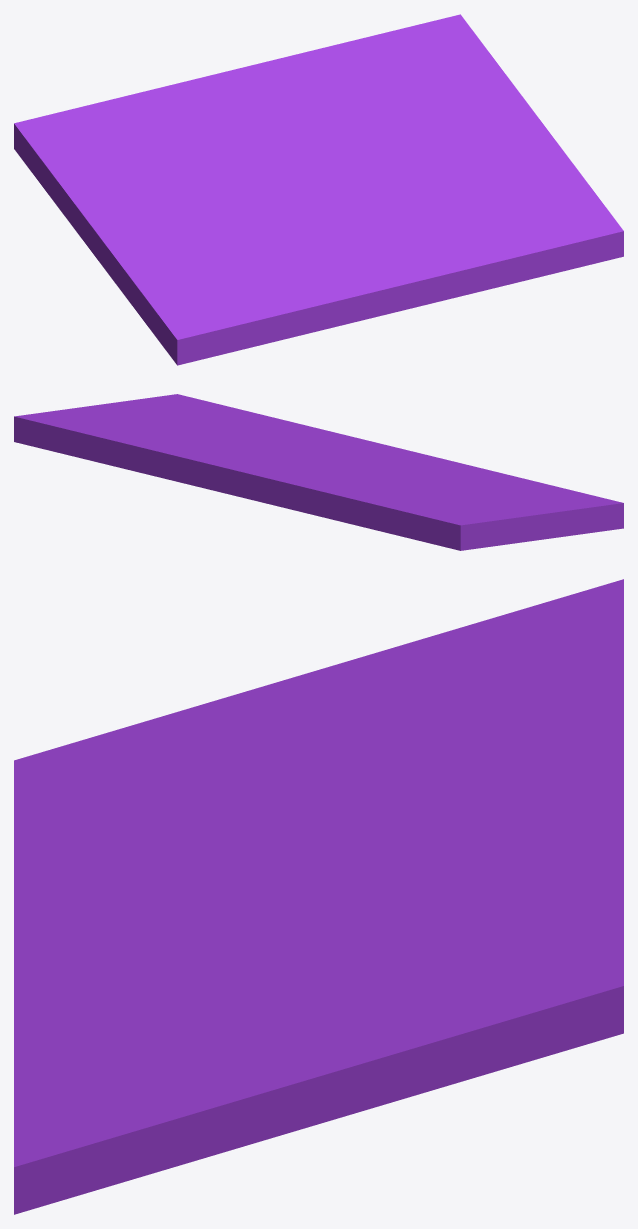
Rendered from Window_167_chunks.fbx.
The picture shows the model from 3 angles, top to bottom: view 1: azimuth 30°, elevation 25°; view 2: azimuth 150°, elevation 25°; view 3: azimuth 270°, elevation 25°; orthographic projection. The views are drawn at different scales.
Visible parts, largest first — view 1: Window_167_3, Window_167_0, Window_167_1, Window_167_2; view 2: Window_167_2, Window_167_0, Window_167_3, Window_167_1; view 3: Window_167_0, Window_167_3, Window_167_1, Window_167_2.
Part boxes in pixels (bbox=[...]): Window_167_3: bbox=[56, 172, 382, 365]; Window_167_0: bbox=[271, 14, 574, 188]; Window_167_1: bbox=[337, 166, 623, 320]; Window_167_2: bbox=[14, 60, 304, 214]; Window_167_2: bbox=[180, 462, 509, 550]; Window_167_0: bbox=[14, 400, 322, 482]; Window_167_3: bbox=[321, 453, 623, 543]; Window_167_1: bbox=[129, 394, 417, 456]; Window_167_0: bbox=[195, 813, 623, 1140]; Window_167_3: bbox=[14, 626, 466, 947]; Window_167_1: bbox=[14, 891, 280, 1214]; Window_167_2: bbox=[339, 579, 623, 858].
Size of the model in its own units: 1838 by 482 by 1165.
